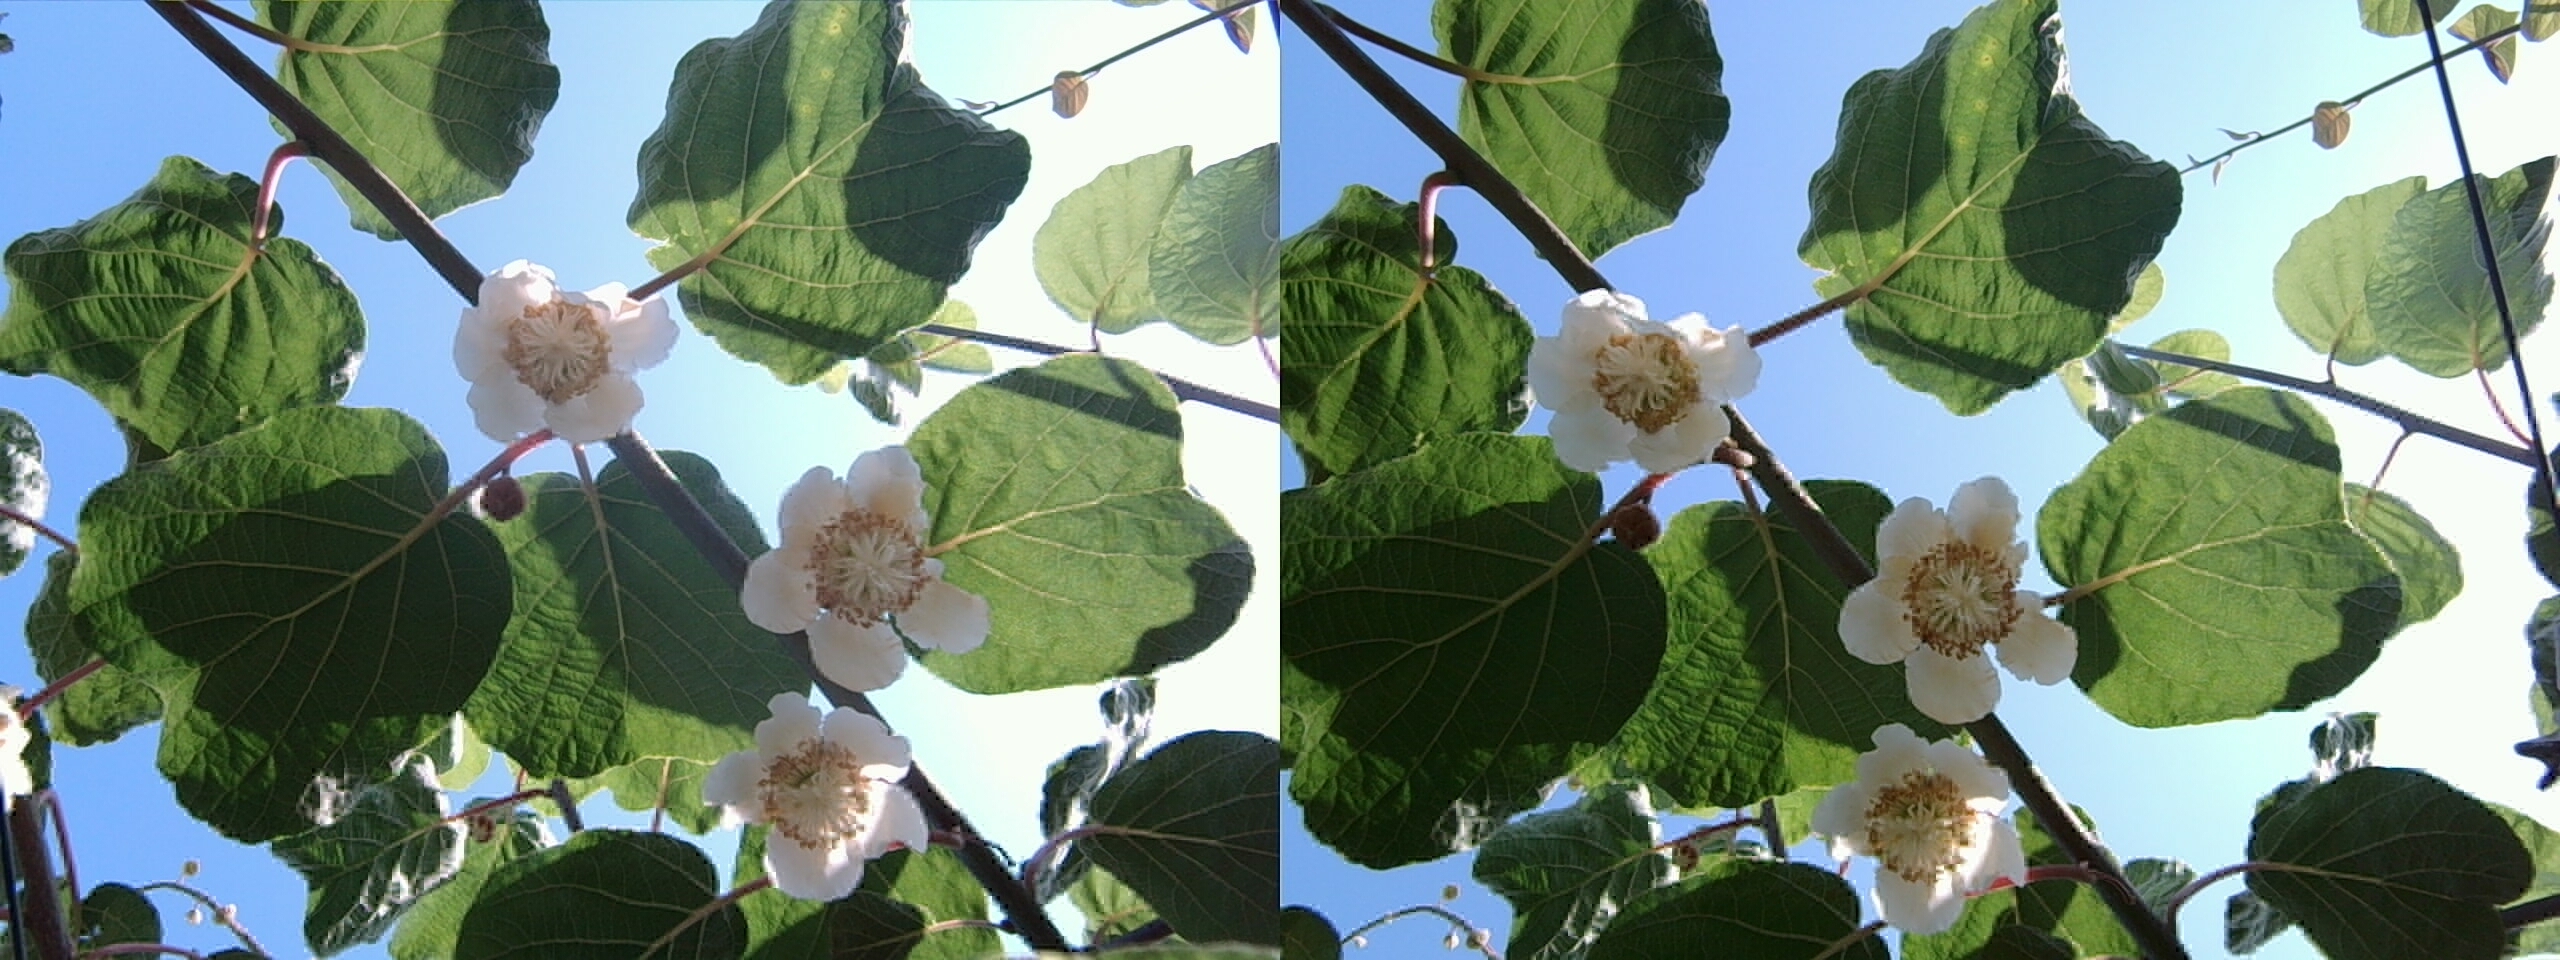flower: (1830, 467, 2073, 715), (740, 438, 975, 689), (700, 687, 924, 896), (1530, 281, 1758, 480), (447, 251, 671, 454), (1809, 713, 2026, 921)
